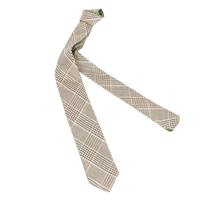tie: (55, 9, 179, 192)
